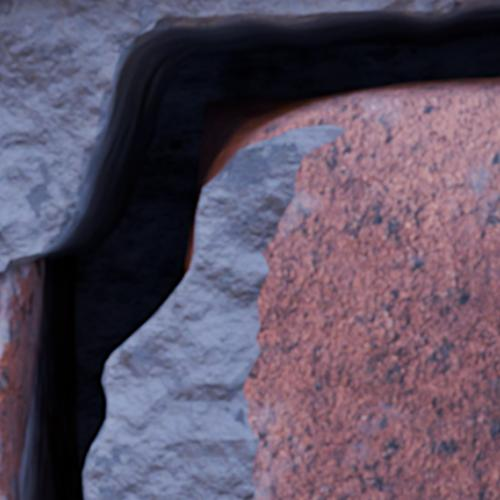brick: (244, 97, 499, 499), (0, 278, 8, 499)
crack: (0, 0, 499, 499)
